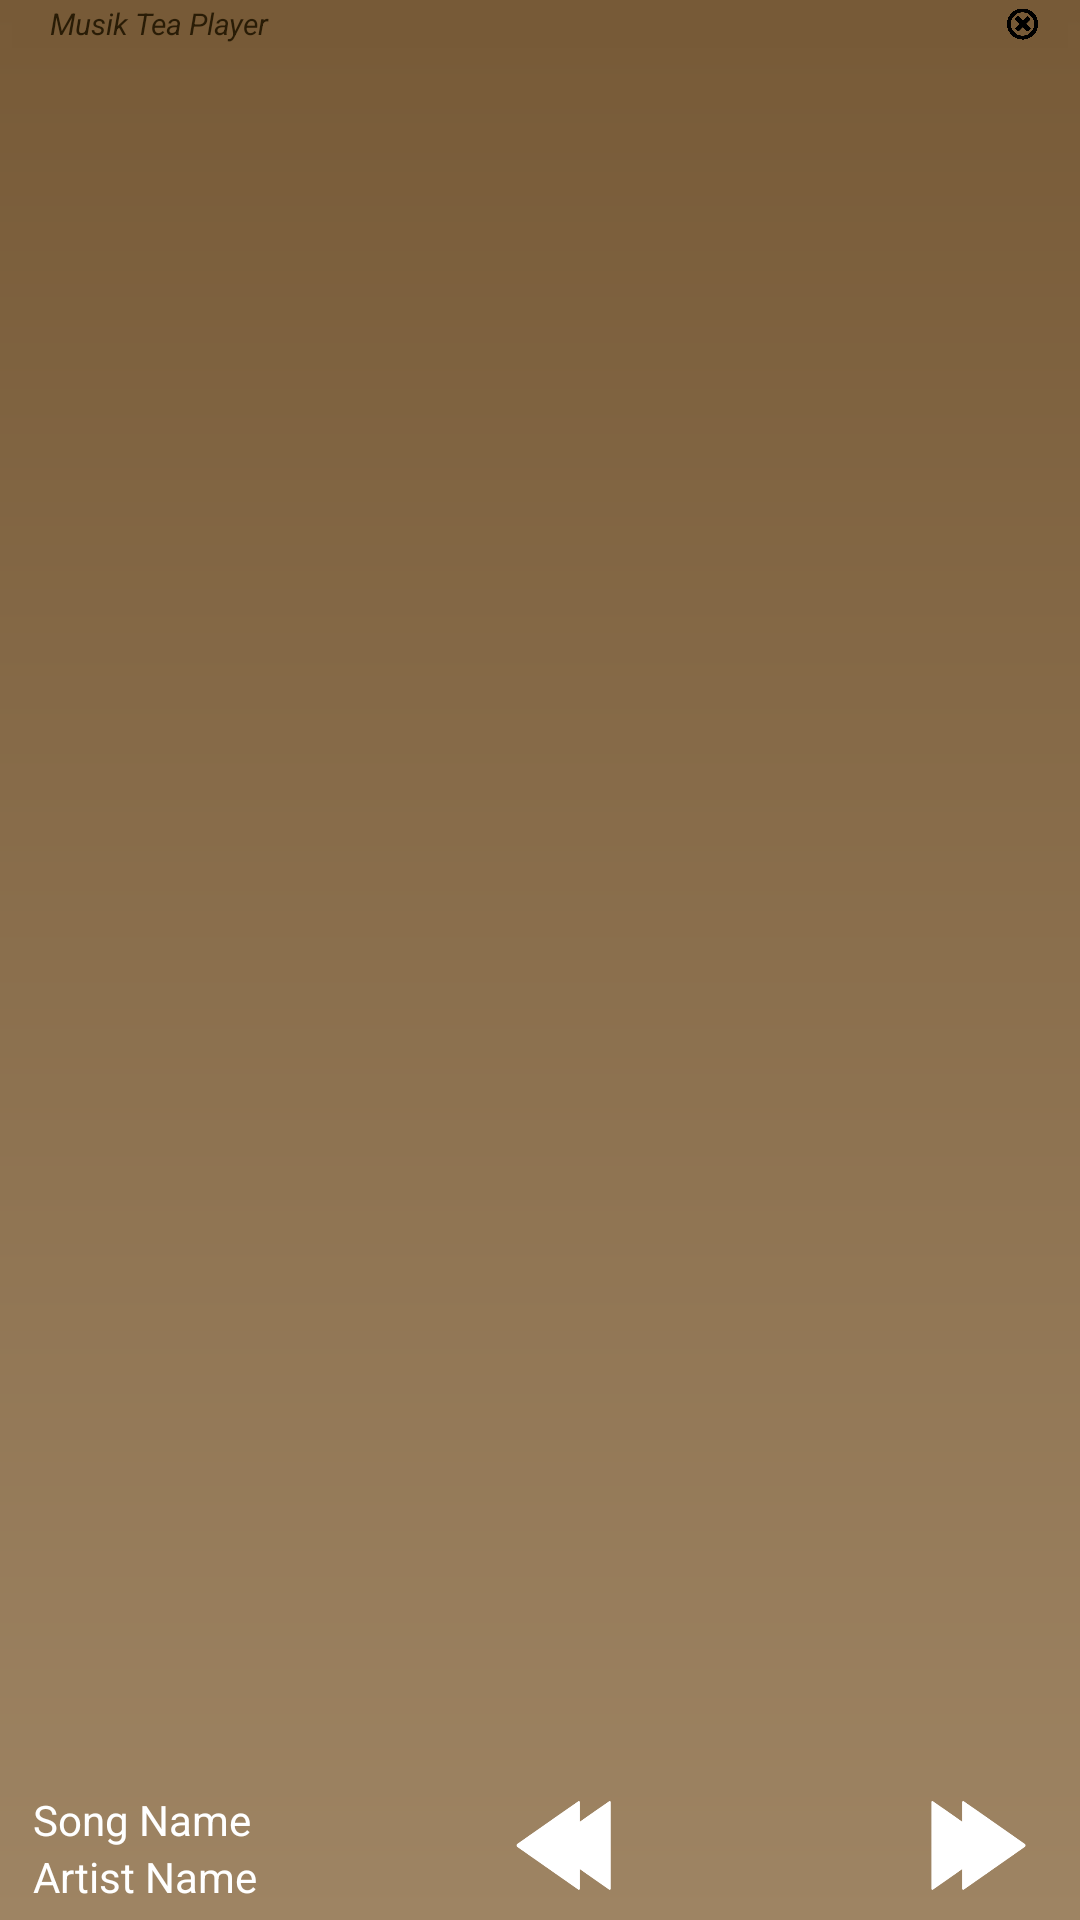

Point at icon controls on the screen. Image size 1080 × 1920, points as point (x, y).
backward: point (563, 1845)
forward: point (978, 1845)
notificationcross: point (1022, 24)
